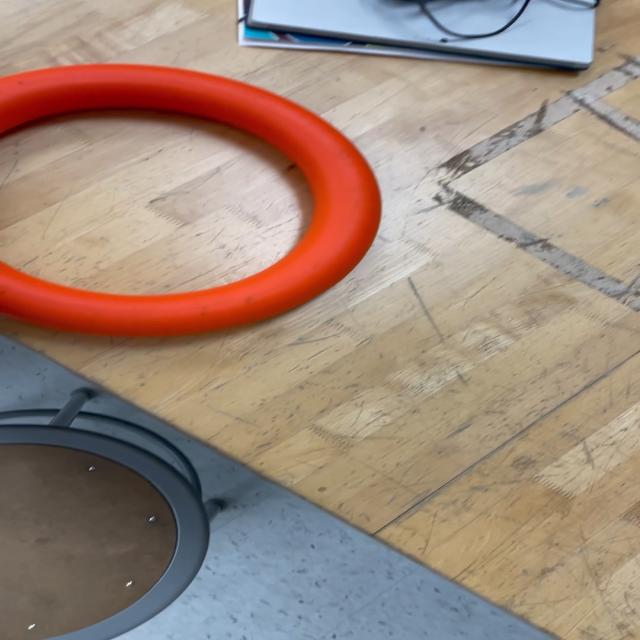note: (0, 63, 384, 339)
